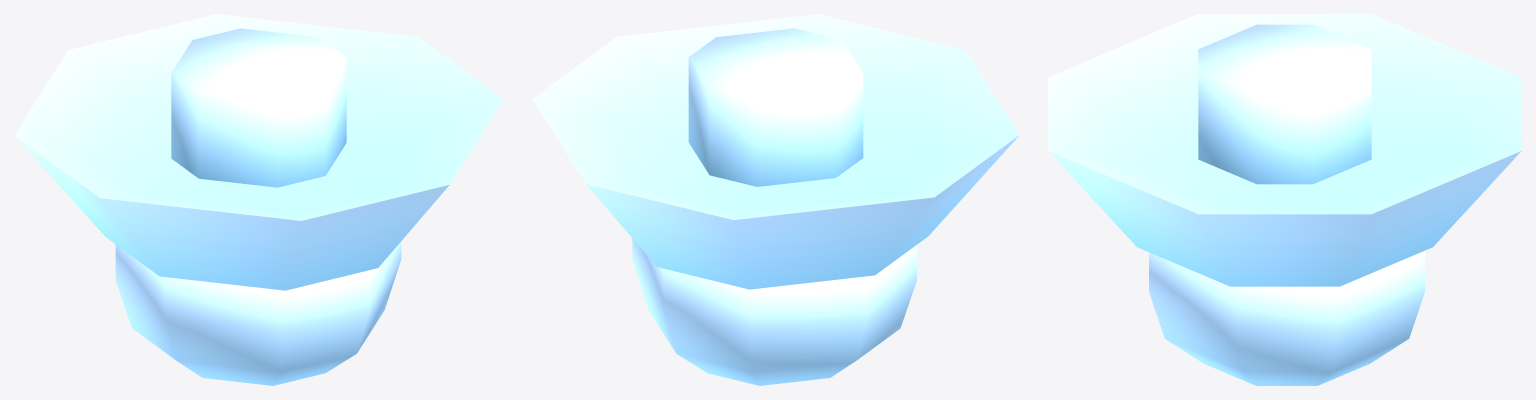
Rendered from steel_pommel_087.glb.
3 renders of one model, left to right at view 1: azimuth 30°, elevation 25°; view 2: azimuth 150°, elevation 25°; view 3: azimuth 270°, elevation 25°, orthographic.
Parts seen in each view (by area): view 1: steel_pommel_087; view 2: steel_pommel_087; view 3: steel_pommel_087.
Boxes of the visible parts, x1,y1,x2,y2 form: steel_pommel_087: [14, 14, 503, 385]; steel_pommel_087: [532, 14, 1019, 385]; steel_pommel_087: [1048, 14, 1521, 385].
Bounding box in the file's own units: 2.38 × 1.67 × 2.38.
Materials: 1 (1 with a texture image).
